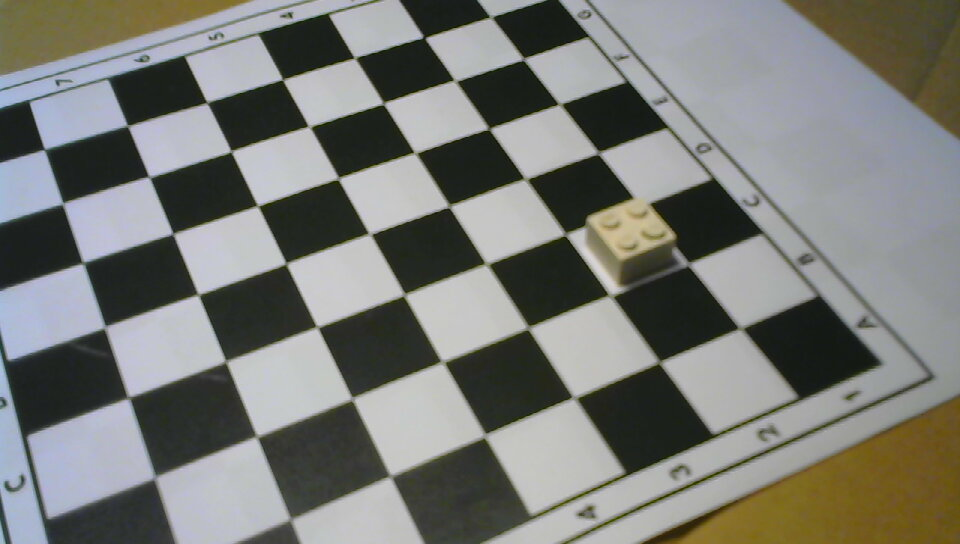wp: (586, 199, 677, 286)
